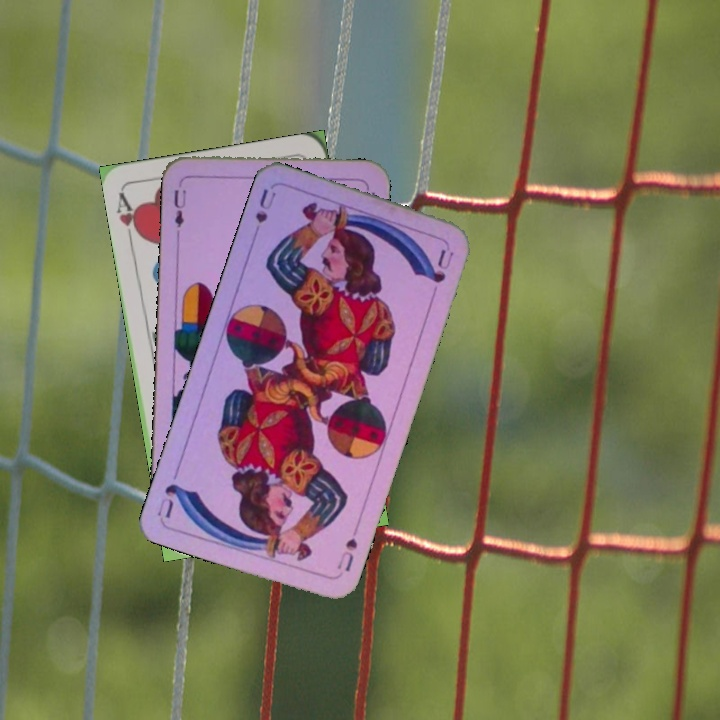EU: (170, 177, 188, 230)
HA: (113, 188, 145, 247)
SU: (248, 185, 279, 243), (333, 521, 362, 574)
